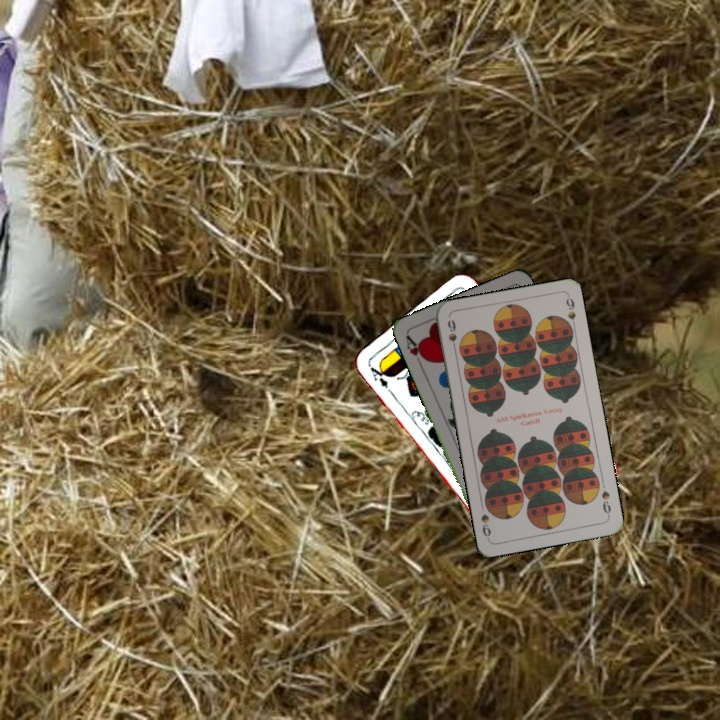EA: (364, 360, 391, 391)
HA: (402, 331, 430, 370)
S9: (443, 315, 464, 355), (597, 486, 614, 519)
